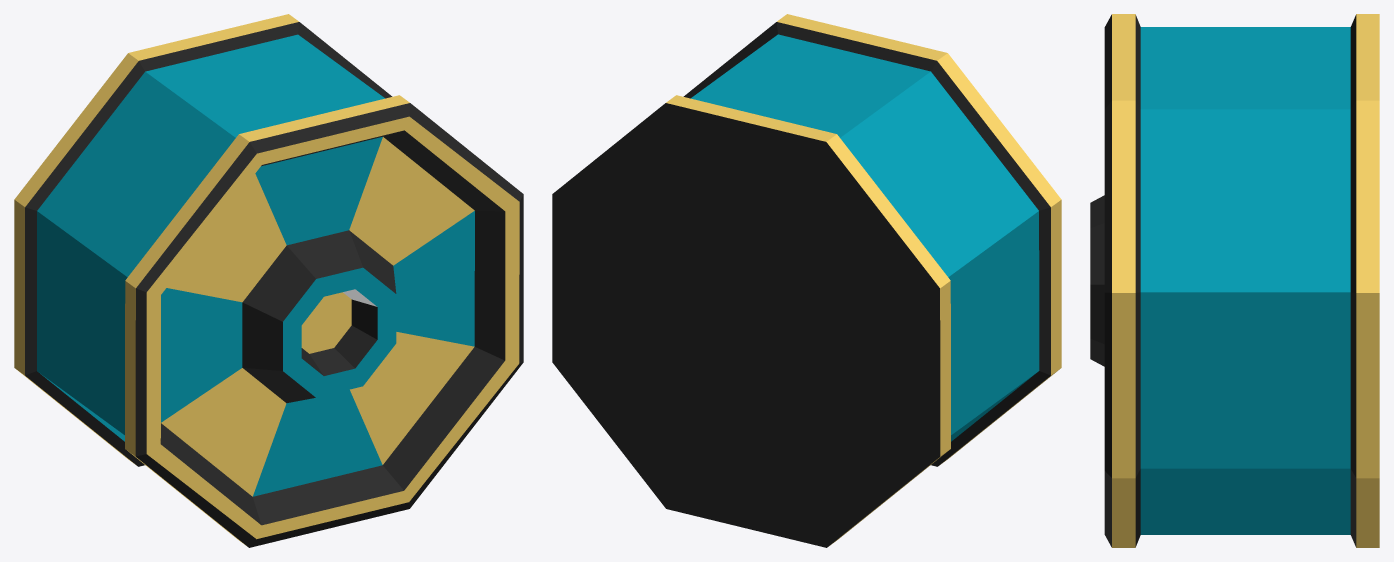
The model's file is spinner.fbx.
3 renders of one model, left to right at view 1: azimuth 30°, elevation 25°; view 2: azimuth 150°, elevation 25°; view 3: azimuth 270°, elevation 25°, orthographic. The views are drawn at different scales.
Parts seen in each view (by area): view 1: Cylinder.001; view 2: Cylinder.001; view 3: Cylinder.001.
Boxes of the visible parts, box(x1,y1,x2,y2) form: Cylinder.001: box(14, 14, 523, 547); Cylinder.001: box(552, 14, 1061, 547); Cylinder.001: box(1090, 14, 1379, 547).
Bounding box in the file's own units: 234 × 137 × 234.
Materials: 1 (1 with a texture image).
